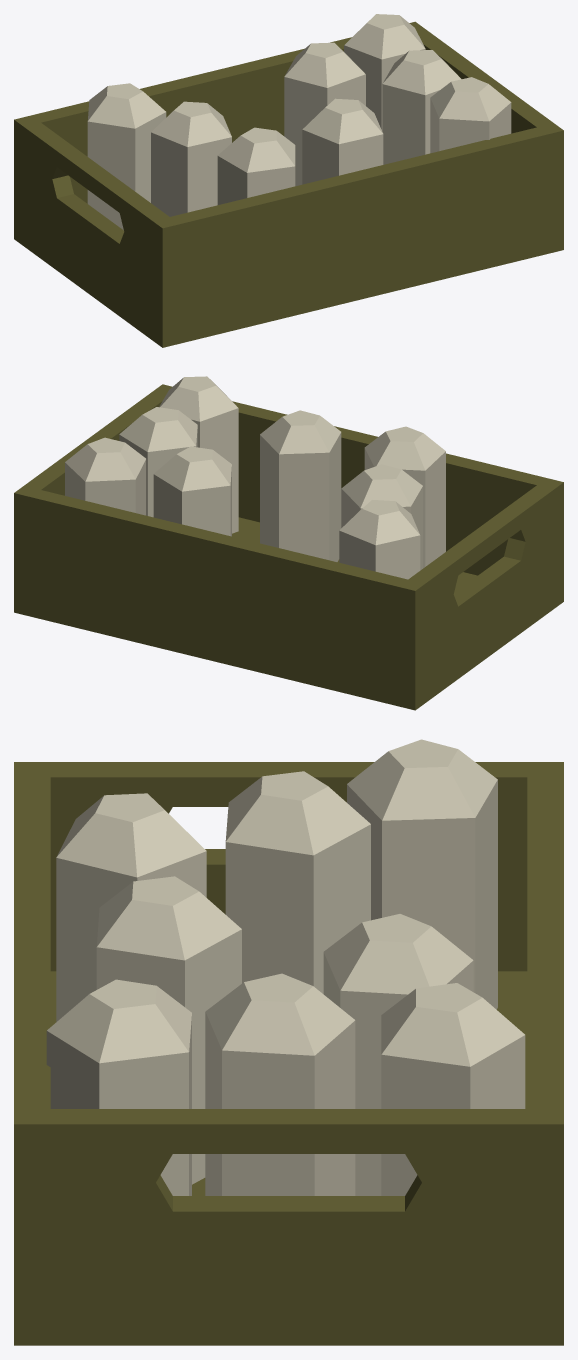
File: LPWarPack_RationsA.fbx
The picture shows the model from 3 angles, top to bottom: view 1: azimuth 30°, elevation 25°; view 2: azimuth 150°, elevation 25°; view 3: azimuth 270°, elevation 25°; orthographic projection. The views are drawn at different scales.
Parts seen in each view (by area): view 1: RationsA; view 2: RationsA; view 3: RationsA.
Part boxes in pixels (bbox=[...]): RationsA: bbox=[14, 14, 563, 347]; RationsA: bbox=[14, 376, 563, 710]; RationsA: bbox=[14, 739, 563, 1345].
Bounding box in the file's own units: 57.92 × 21.81 × 37.14.
